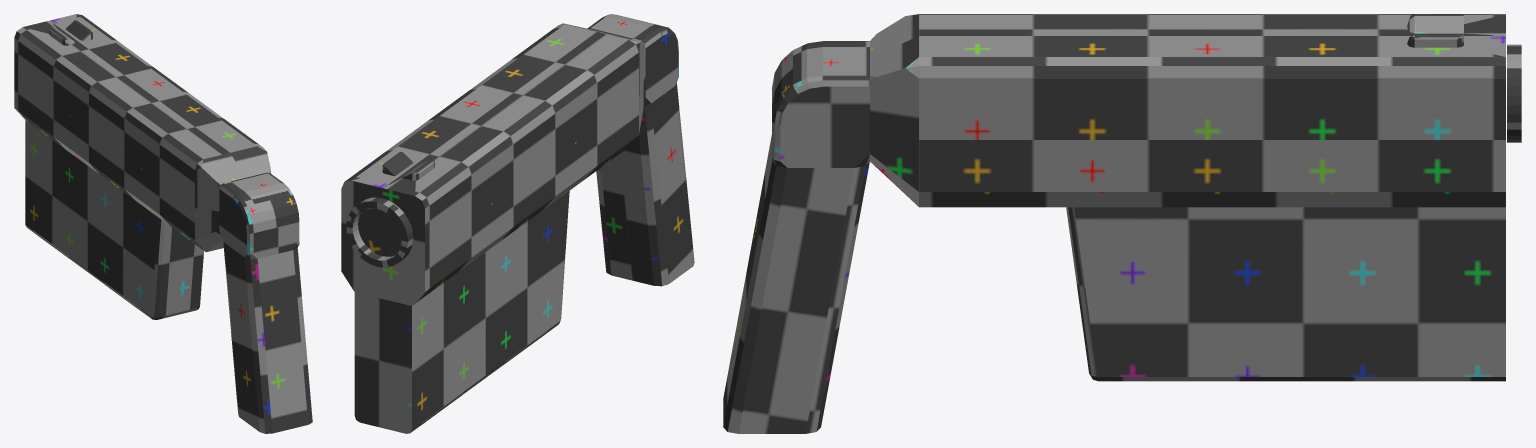
The model's file is handgun.glb.
The picture shows the model from 3 angles, left to right: view 1: azimuth 30°, elevation 25°; view 2: azimuth 150°, elevation 25°; view 3: azimuth 270°, elevation 25°; orthographic projection. The views are drawn at different scales.
Parts seen in each view (by area): view 1: Cube; view 2: Cube; view 3: Cube.
Boxes of the visible parts, x1=… form: Cube: x1=14, y1=14, x2=312, y2=433; Cube: x1=341, y1=14, x2=694, y2=433; Cube: x1=723, y1=14, x2=1521, y2=433.
Size of the model in its own units: 0.1357 by 0.4384 by 0.8162.
Materials: 1 (1 with a texture image).
